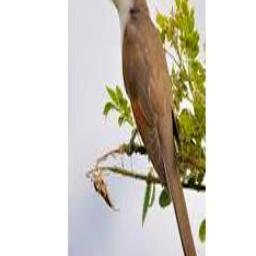Cuckoo: (97, 0, 201, 256)
